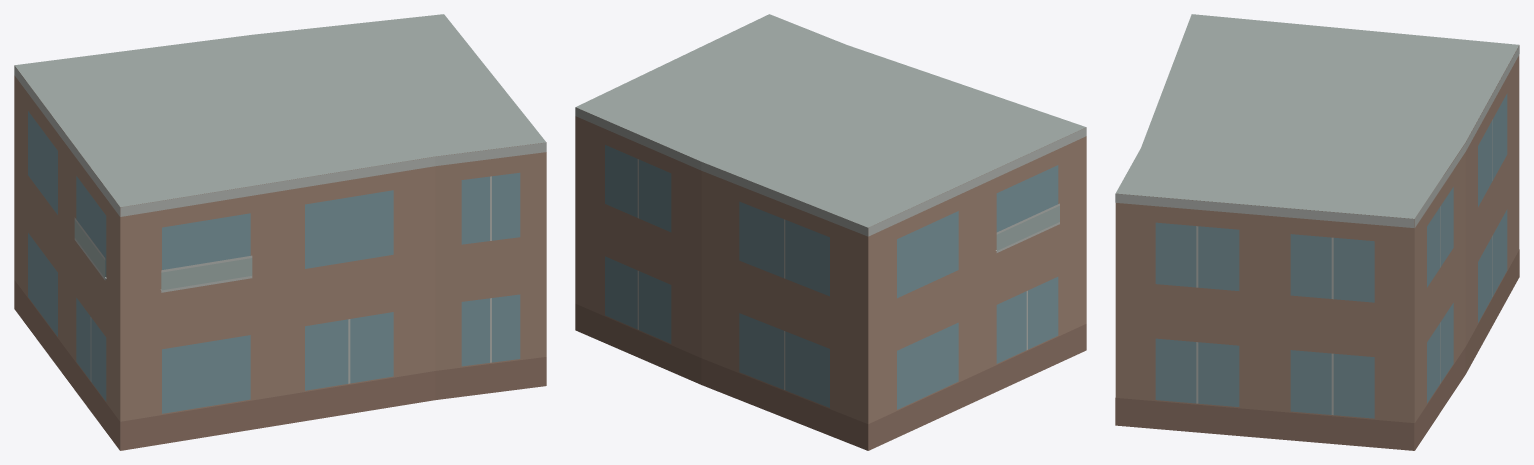
File: survey-upis-32474601.glb
The picture shows the model from 3 angles, left to right: view 1: azimuth 30°, elevation 25°; view 2: azimuth 150°, elevation 25°; view 3: azimuth 270°, elevation 25°; orthographic projection. The views are drawn at different scales.
Parts seen in each view (by area): view 1: survey-upis-32474601.tmp; view 2: survey-upis-32474601.tmp; view 3: survey-upis-32474601.tmp.
Boxes of the visible parts, x1=… form: survey-upis-32474601.tmp: x1=14, y1=14, x2=546, y2=450; survey-upis-32474601.tmp: x1=575, y1=14, x2=1086, y2=450; survey-upis-32474601.tmp: x1=1115, y1=14, x2=1519, y2=450.
Bounding box in the file's own units: 11.57 × 6.1 × 9.64.
